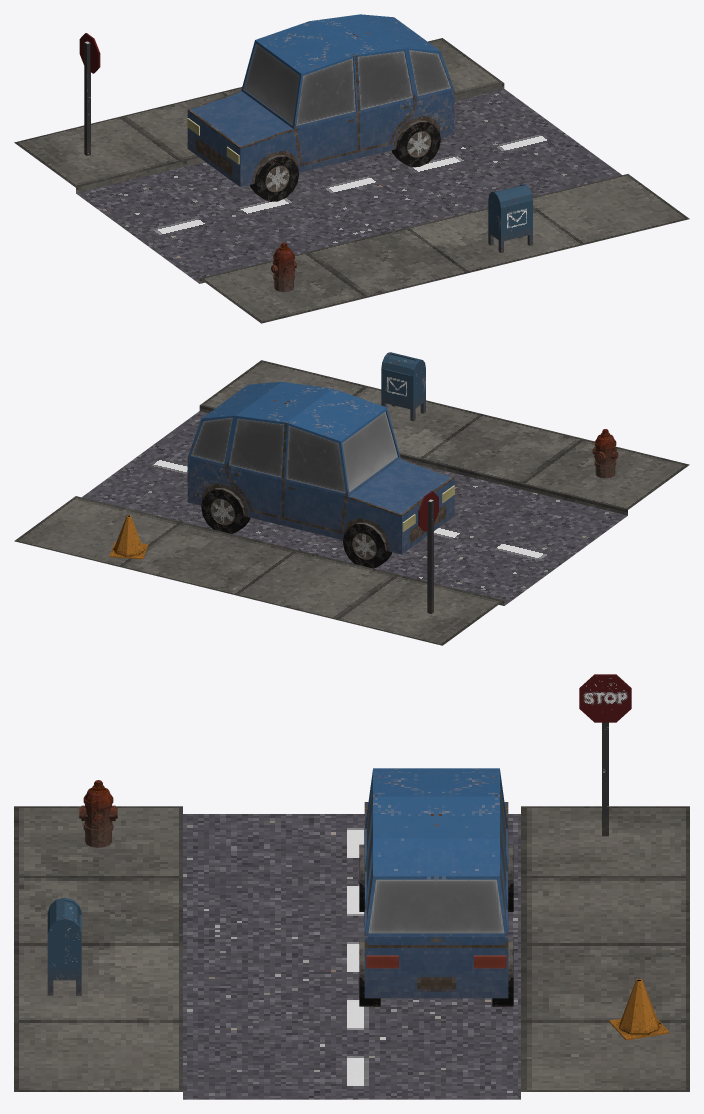
The model's file is Street.glb.
3 renders of one model, top to bottom at view 1: azimuth 30°, elevation 25°; view 2: azimuth 150°, elevation 25°; view 3: azimuth 270°, elevation 25°, orthographic. The views are drawn at different scales.
Visible parts, largest first — view 1: RoadStraight; view 2: RoadStraight; view 3: RoadStraight.
Boxes of the visible parts, box(x1,y1,x2,y2) form: RoadStraight: box(14, 14, 689, 323); RoadStraight: box(14, 352, 689, 645); RoadStraight: box(14, 674, 689, 1099).
Bounding box in the file's own units: 40 × 11.55 × 40.
10 materials, 10 textured.
